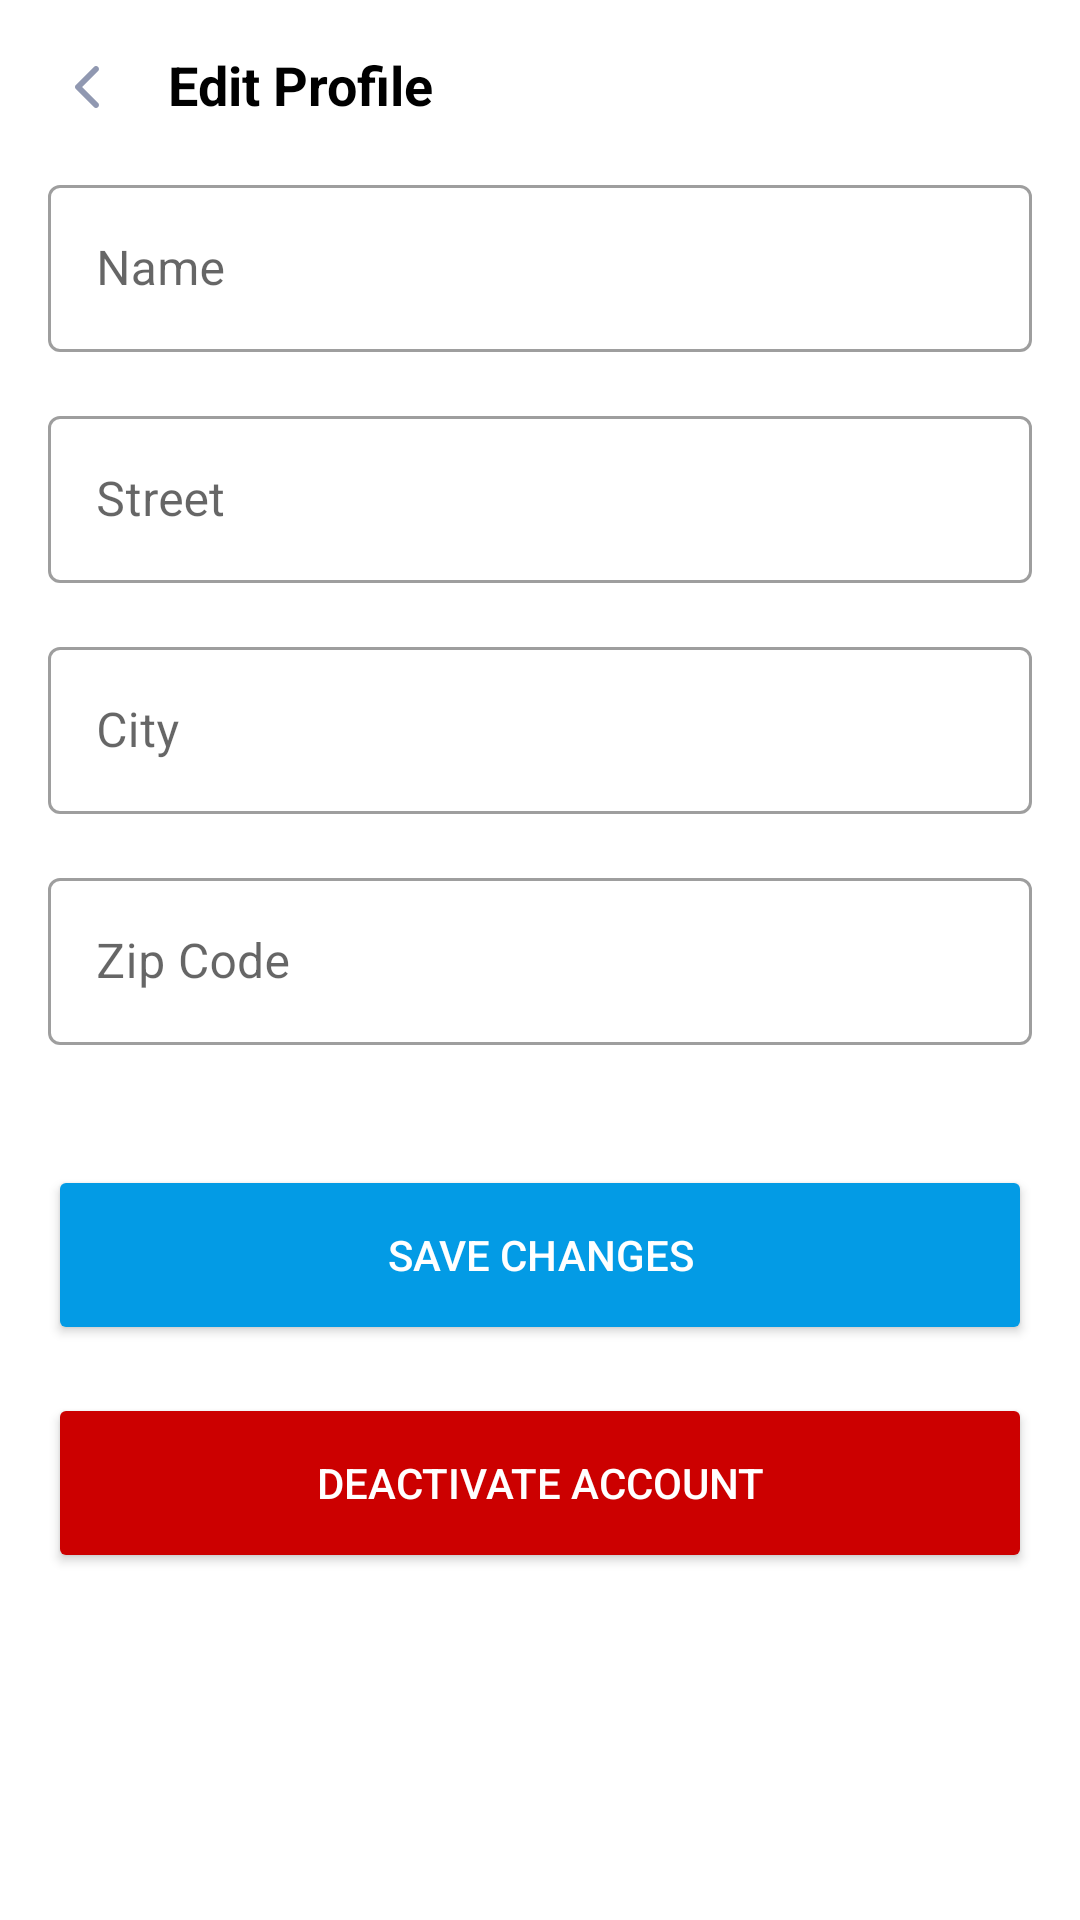

Named icons in this screenshot (1080 × 1920) and their bounding boxes, (x1, y1, x2, y2):
back arrow: (75, 66, 99, 108)
